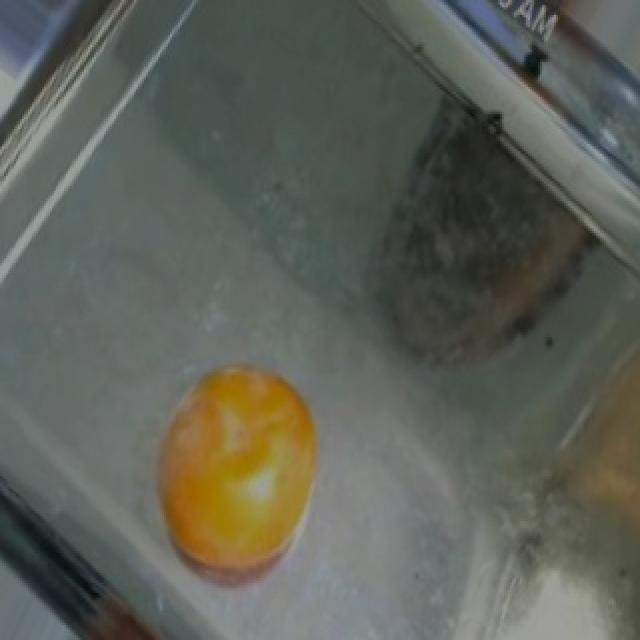Fruit: (138, 348, 336, 606)
